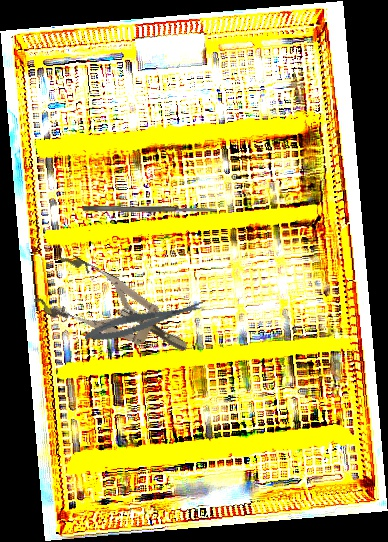Micro Scissor: (82, 296, 209, 347)
Spatula Surgical: (82, 204, 218, 215)
Speculum: (31, 248, 201, 378)
